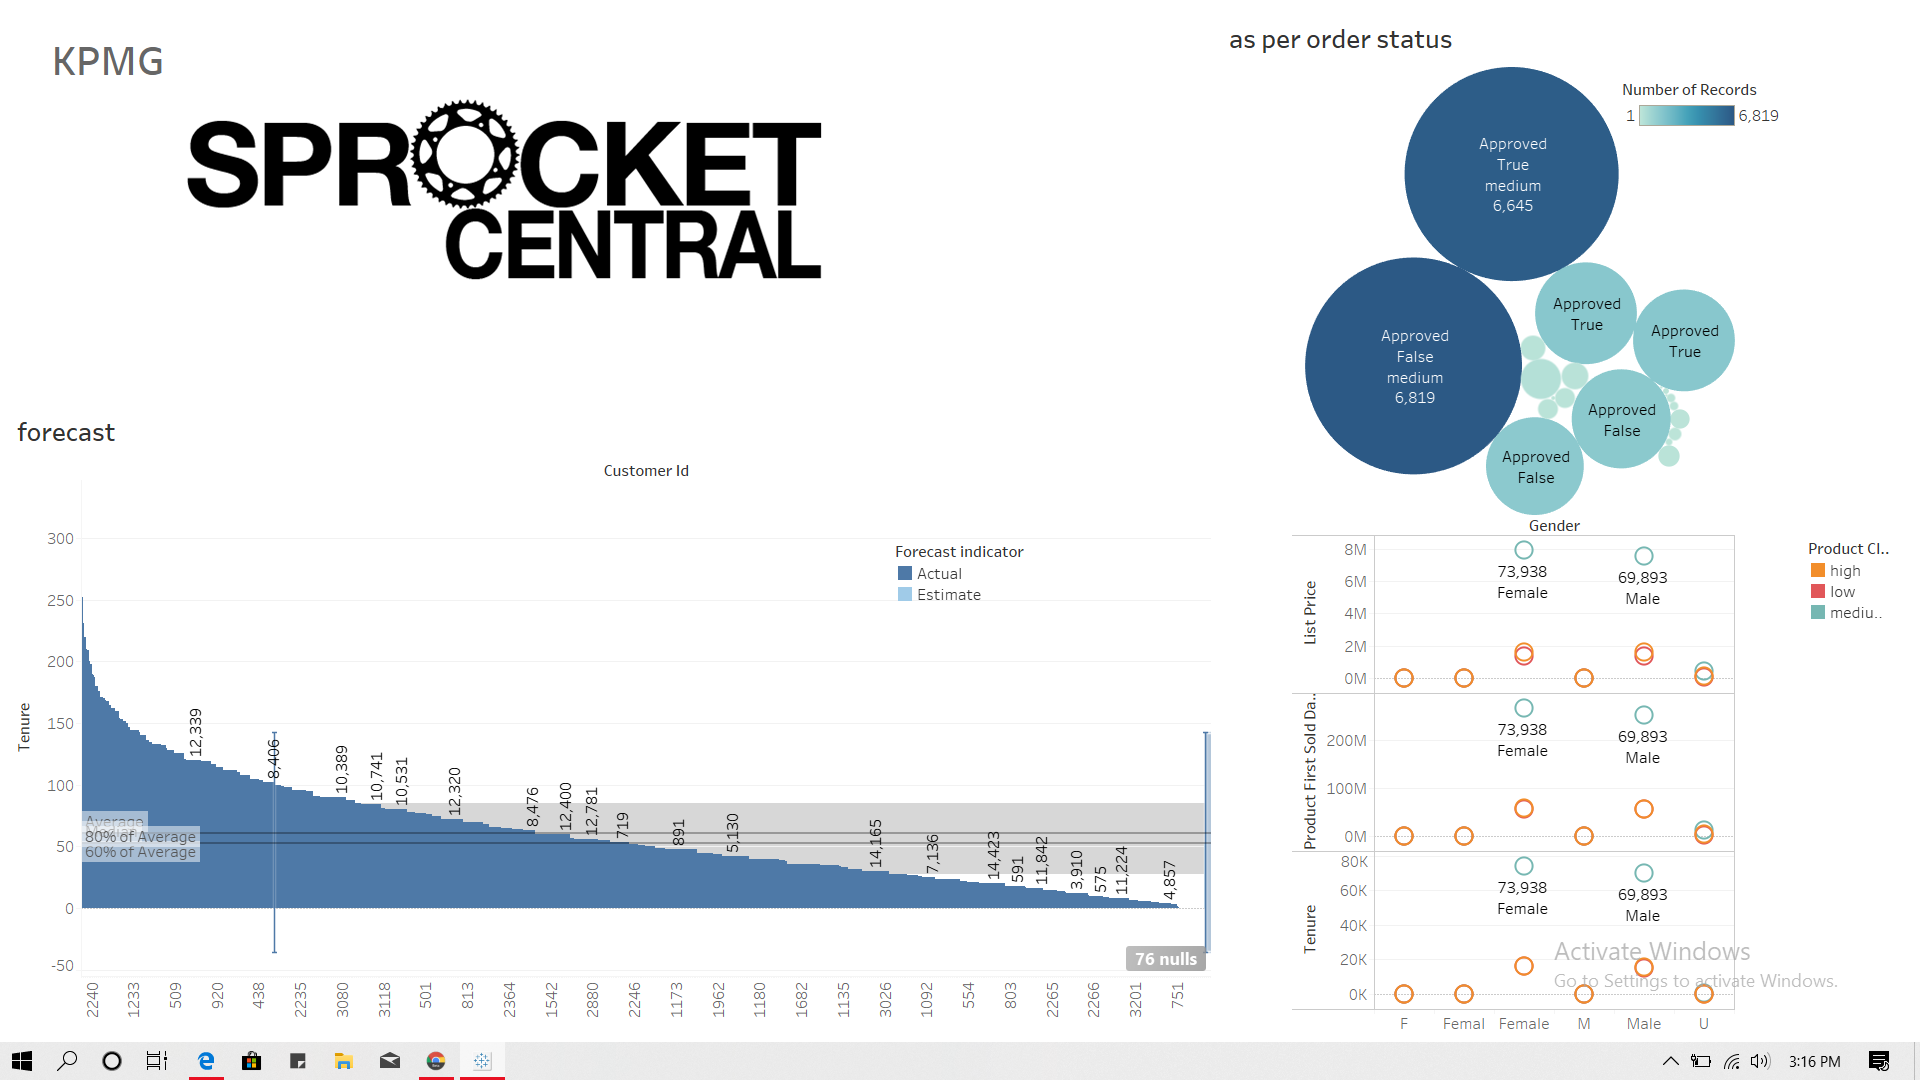

This screenshot's page, from the dashboard's own definition file:
{"tool":"tableau","page":{"name":"Dashboard 2","canvas":[1000,1000],"units":"permille","ordinal":1},"visuals":[{"type":"text","box":[16.9,10.3,67.6,58.4]},{"type":"worksheet","title":"Sheet 4","mark":"Automatic","cols":["online_order","product_size"],"box":[578.1,29.8,387.4,568.2]},{"type":"image","param":"Image/sprocket_central_logo.png","box":[145.4,45.8,409.8,158.1]},{"type":"worksheet","title":"Sheet 6","mark":"Pie","rows":["brand"],"cols":["job_industry_category"],"box":[16.9,274.9,560.6,675.8]},{"type":"worksheet","title":"Sheet 5","mark":"Shape","rows":["Number of Records","list_price","product_first_sold_date","standard_cost","tenure"],"box":[585.4,572.7,405.6,415.8]},{"type":"legend","title":"Sheet 5","param":"[federated.10zzsdp0hoaa021cgm0eb0f26sjg].[none:brand:nk]","box":[901,641.5,84.5,169.5]}]}

Visuals, with their boxes on the dashboard's canvas, which has no fixed pixel size, in thousandths of its width and height (x1, y1, x2, y2). These are canvas units, not pixel positions in the 1920x1080 screenshot, which may show the page scaled, cropped or inside an application window:
text: bbox=(17, 10, 84, 69)
"Sheet 4" worksheet: bbox=(578, 30, 966, 598)
image: bbox=(145, 46, 555, 204)
"Sheet 6" worksheet (Pie marks): bbox=(17, 275, 578, 951)
"Sheet 5" worksheet (Shape marks): bbox=(585, 573, 991, 988)
"Sheet 5" legend: bbox=(901, 642, 986, 811)
